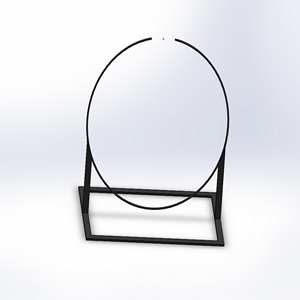circle: (77, 31, 231, 248)
